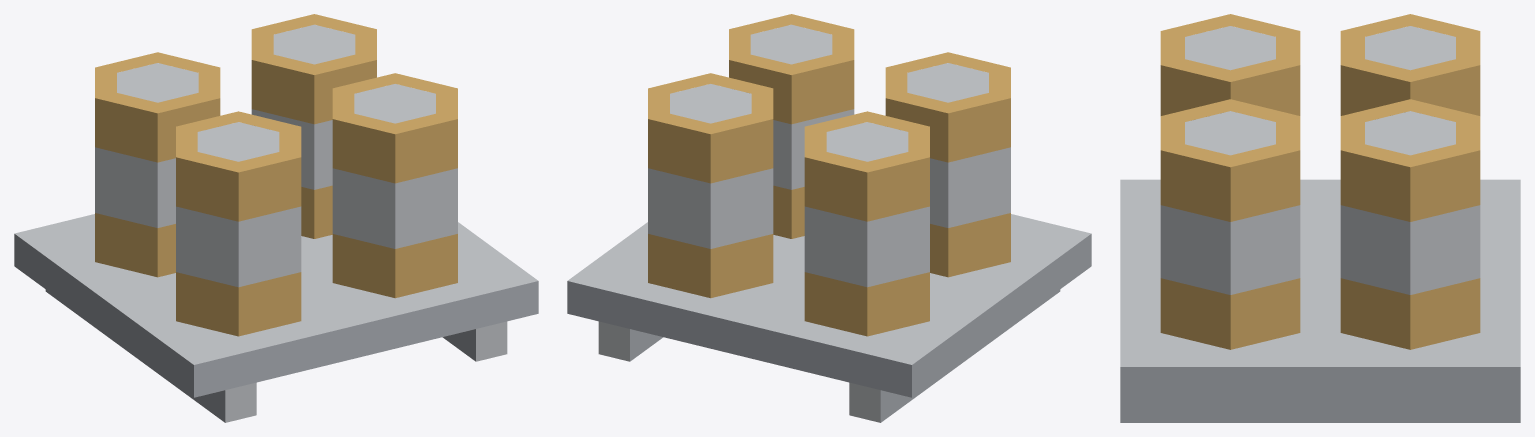
Rendered from barrels.glb.
The picture shows the model from 3 angles, left to right: view 1: azimuth 30°, elevation 25°; view 2: azimuth 150°, elevation 25°; view 3: azimuth 270°, elevation 25°; orthographic projection. The views are drawn at different scales.
Parts seen in each view (by area): view 1: barrels, barrel; view 2: barrels, barrel; view 3: barrels, barrel.
Boxes of the visible parts, box(x1,y1,x2,y2) form: barrels: box(14, 24, 538, 422); barrel: box(95, 14, 457, 336); barrels: box(567, 24, 1091, 422); barrel: box(648, 14, 1010, 336); barrels: box(1120, 26, 1520, 422); barrel: box(1160, 14, 1480, 349).
Size of the model in its own units: 0.55 by 0.35 by 0.4964.
